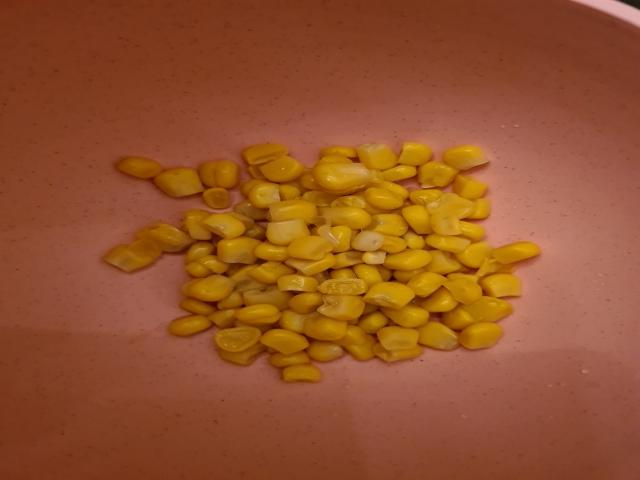kichen waste: (108, 145, 536, 381)
